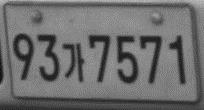1: (168, 34, 187, 85)
3: (37, 33, 59, 81)
5: (116, 35, 138, 84)
7: (139, 34, 163, 83), (88, 34, 111, 82)
9: (12, 33, 34, 81)
가: (61, 42, 85, 82)
